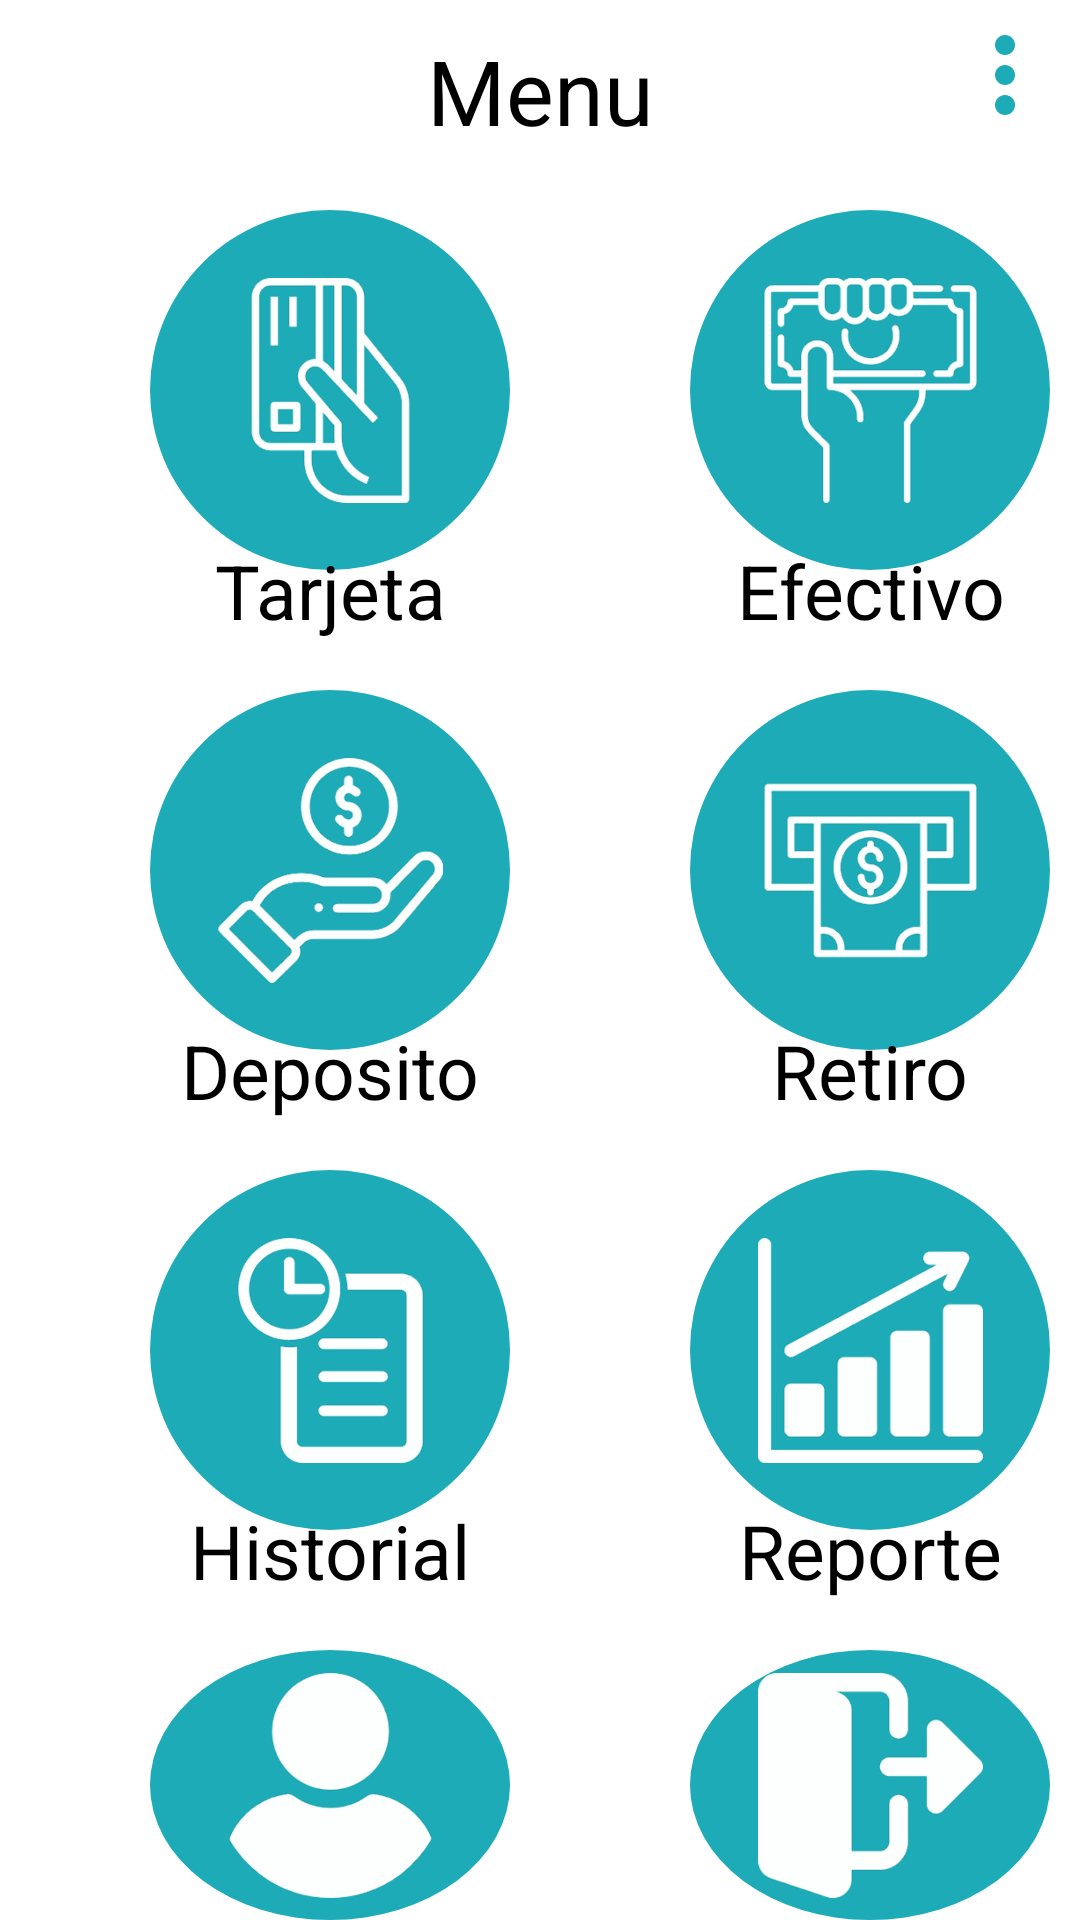

Where to tap for icons on this 1080×1920 app screen, as [x,y]:
points: [1005,75]
profile: [330,1785]
